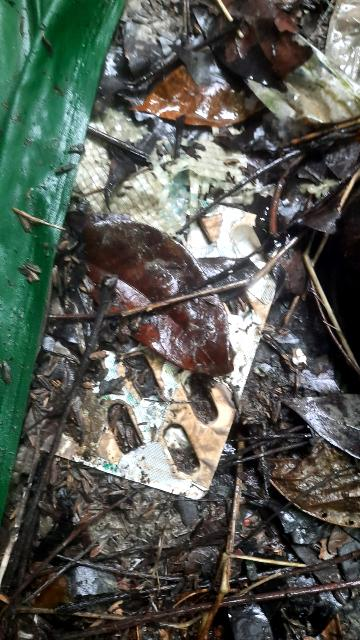medicine: (24, 179, 300, 502)
